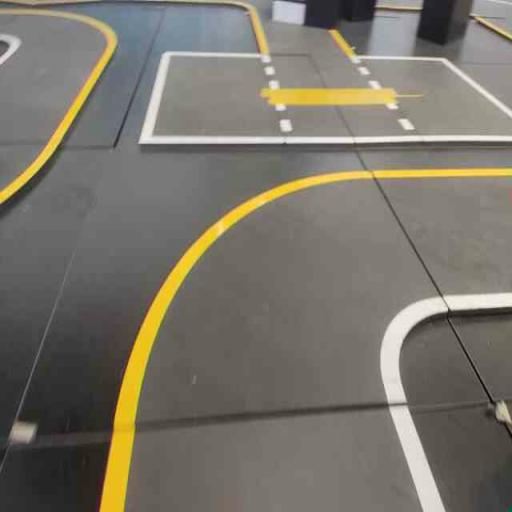right: (102, 151, 495, 428)
